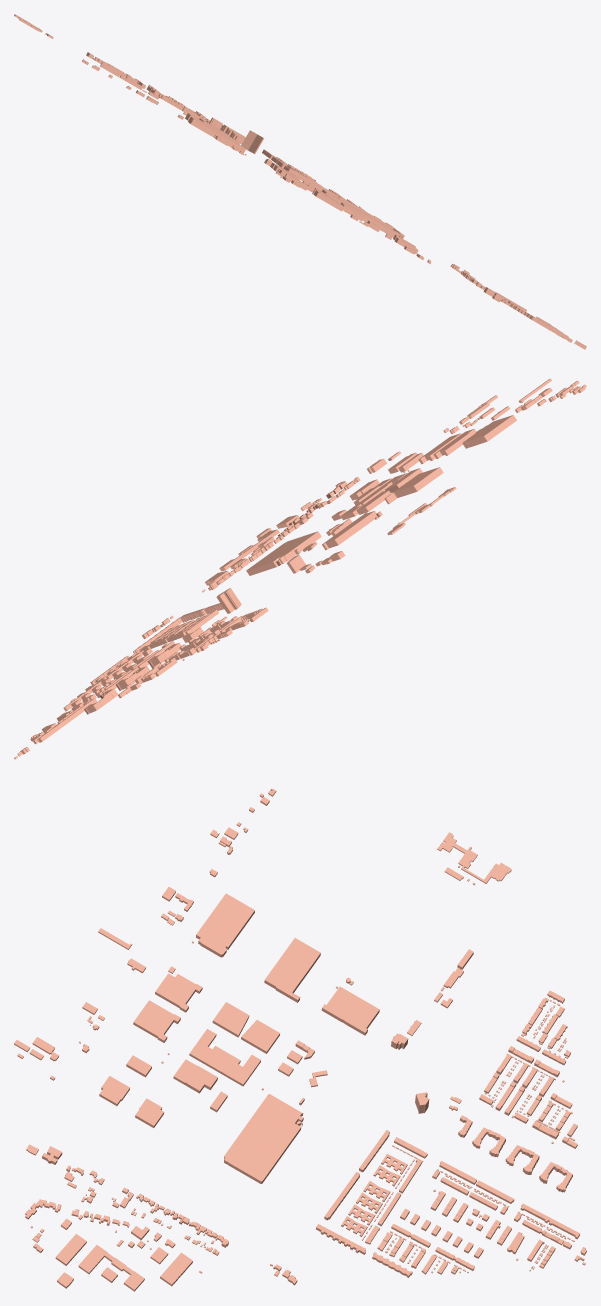
3 renders of one model, top to bottom at view 1: azimuth 30°, elevation 25°; view 2: azimuth 150°, elevation 25°; view 3: azimuth 270°, elevation 25°, orthographic. The views are drawn at different scales.
Bounding box in the file's own units: 989 × 741 × 1235.
